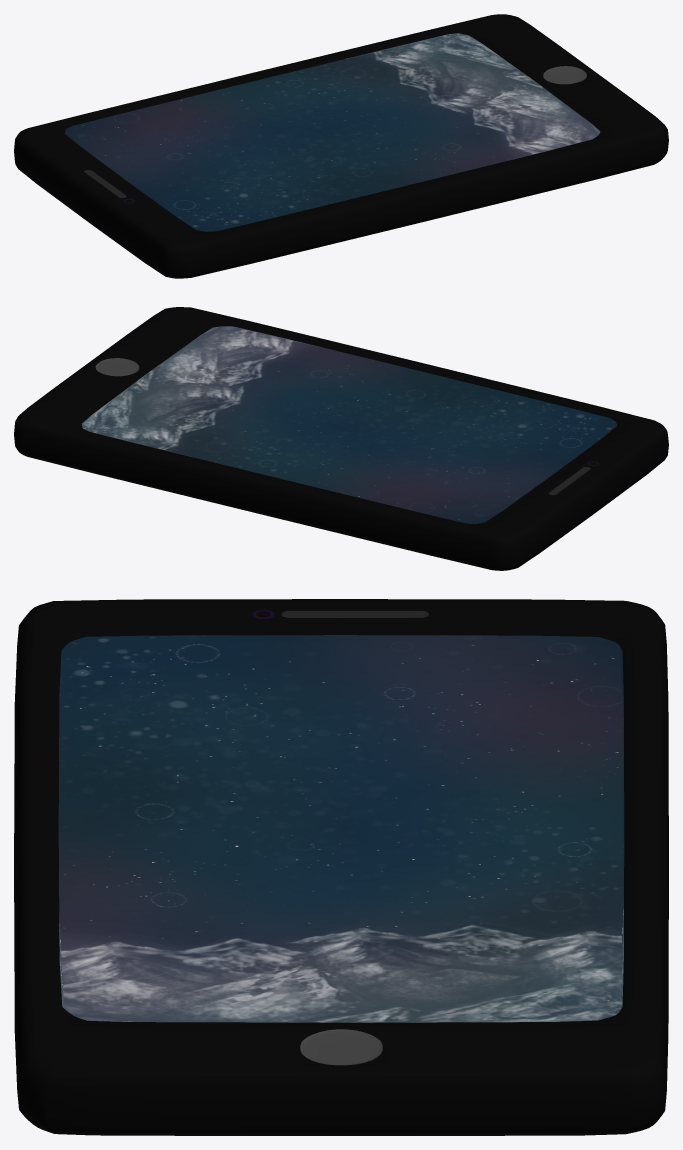
Rendered from Props_Phone-On.fbx.
The picture shows the model from 3 angles, top to bottom: view 1: azimuth 30°, elevation 25°; view 2: azimuth 150°, elevation 25°; view 3: azimuth 270°, elevation 25°; orthographic projection. The views are drawn at different scales.
Parts seen in each view (by area): view 1: PhoneOnv3; view 2: PhoneOnv3; view 3: PhoneOnv3.
Part boxes in pixels (x1=…): PhoneOnv3: x1=14, y1=14, x2=668, y2=278; PhoneOnv3: x1=14, y1=307, x2=668, y2=570; PhoneOnv3: x1=14, y1=599, x2=668, y2=1135.
Bounding box in the file's own units: 21.2 × 1.33 × 12.14.
Materials: 1 (1 with a texture image).
